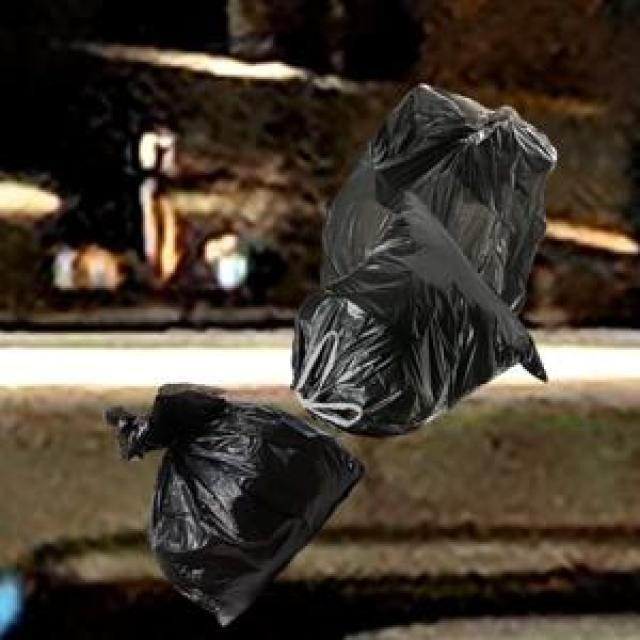Bolsa-de-nilon: (288, 84, 558, 441), (104, 385, 365, 630)
